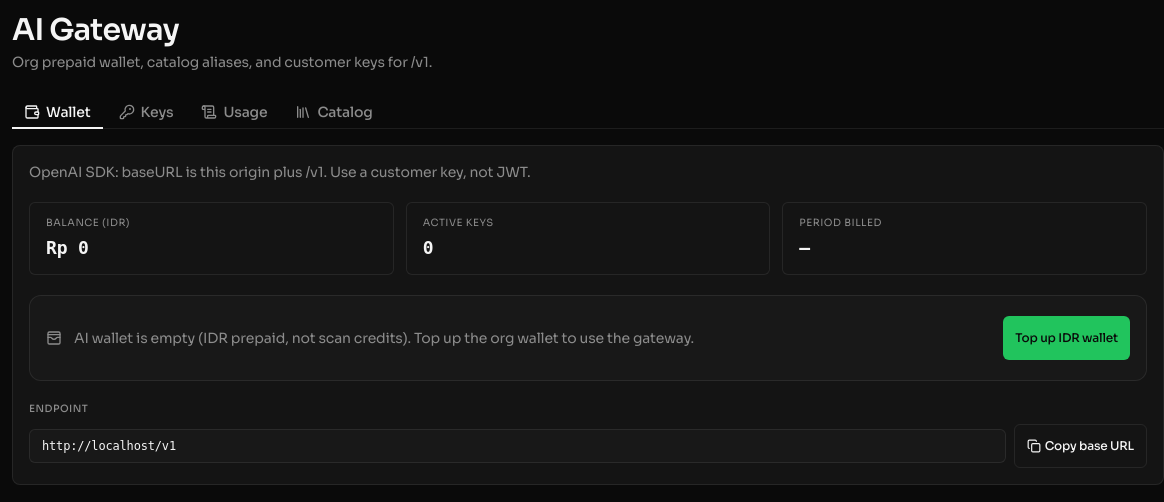
Test: AI Gateway page › shows a usage empty well with catalog CTA
The image size is (1164, 502).
Step 1. Click the tab with test id "ai-tab-usage" → [234, 112], box left=189, top=96, right=279, bottom=128
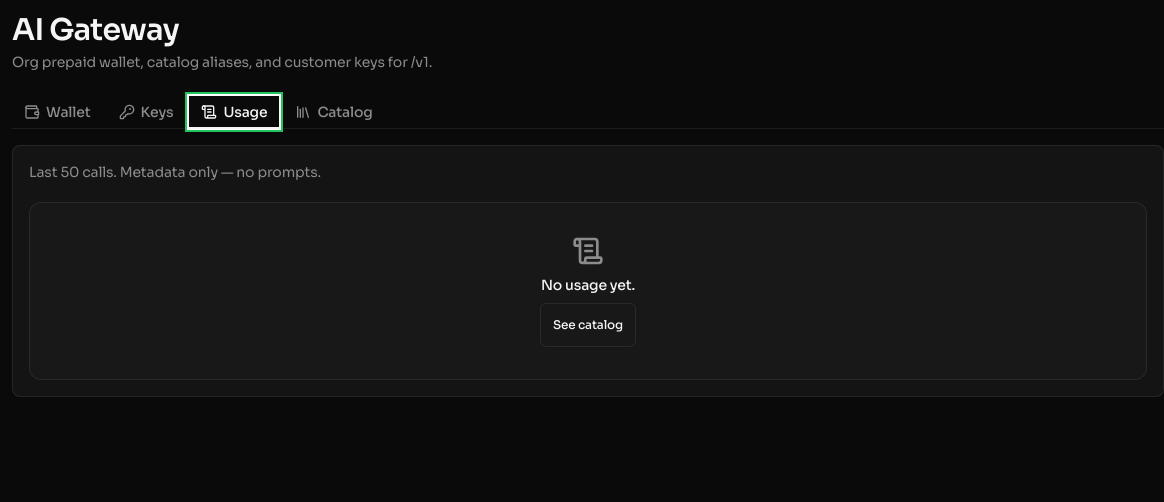
Expected: the element with test id "ai-usage-empty" is shown, left=29, top=202, right=1147, bottom=380
Expected: the button "See catalog" is shown, left=540, top=303, right=636, bottom=347
